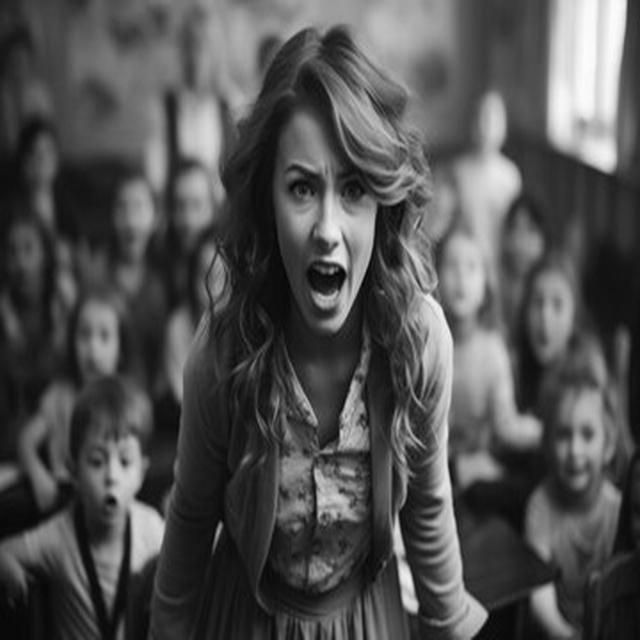Angry: (274, 107, 377, 337)
